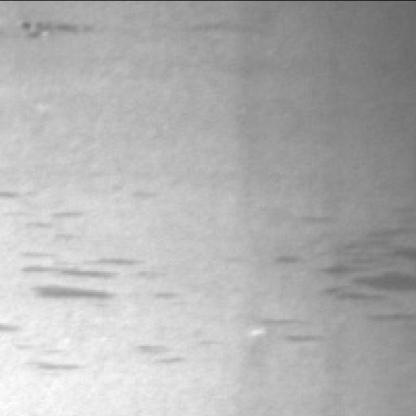inclusion: (302, 208, 412, 326), (10, 239, 146, 316), (8, 12, 106, 54)
